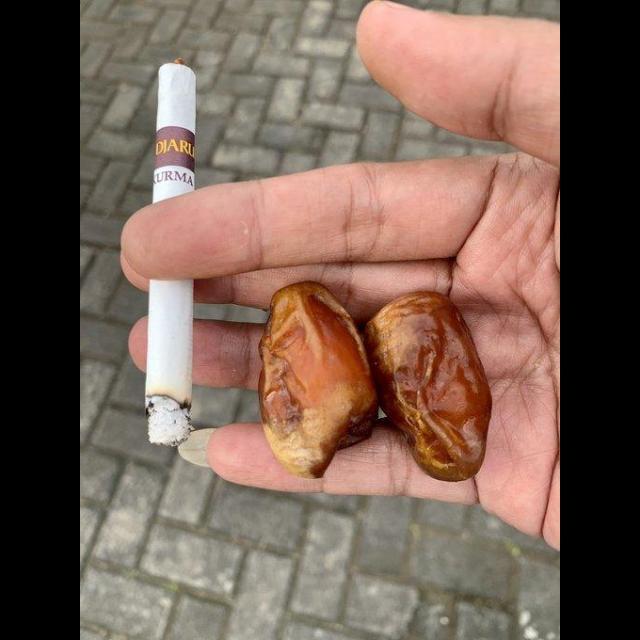rokok: (140, 49, 208, 447)
